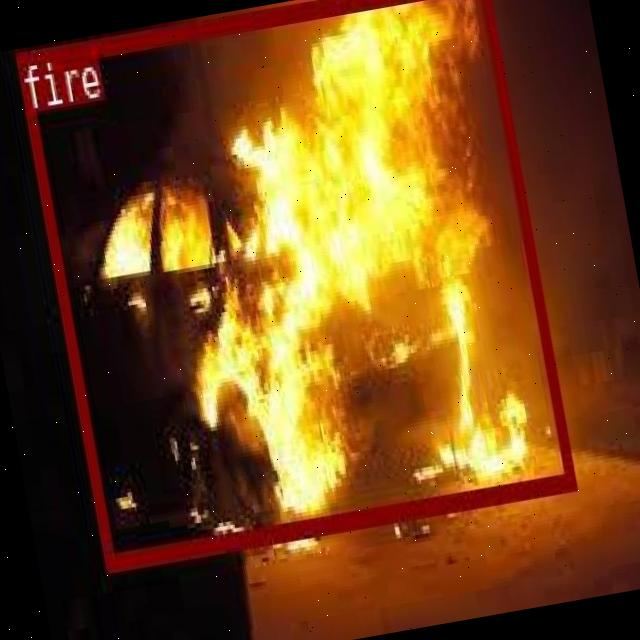fire: (14, 0, 574, 569)
